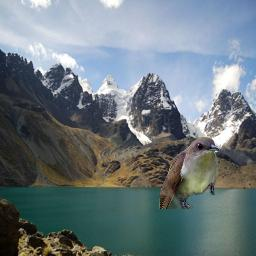Cuckoo: (159, 137, 221, 209)
